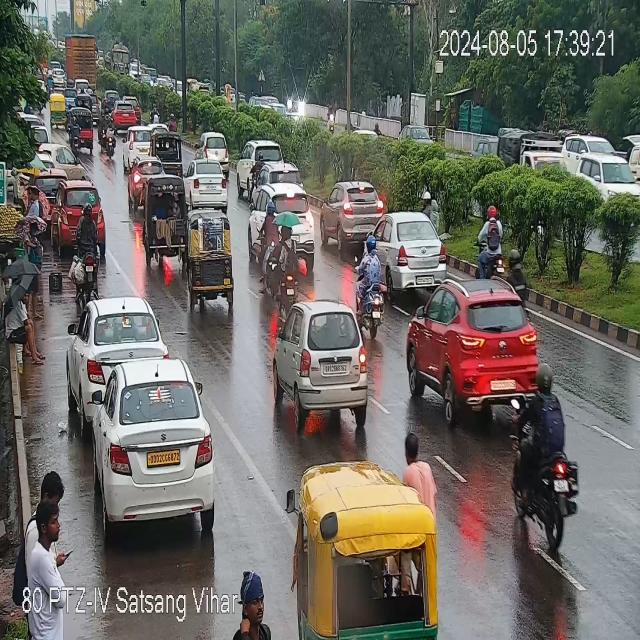2-wheelers: (511, 360, 584, 516), (72, 205, 104, 310), (273, 203, 303, 315), (356, 236, 390, 329), (473, 206, 511, 277), (100, 118, 116, 154), (148, 105, 160, 124)
auto: (288, 451, 436, 640), (186, 210, 237, 312), (142, 173, 183, 266), (153, 134, 185, 171), (70, 112, 94, 150), (51, 93, 70, 128)
car: (92, 358, 218, 528), (400, 274, 546, 418), (269, 302, 371, 431), (71, 296, 161, 401), (358, 212, 451, 290), (249, 183, 319, 275), (321, 179, 385, 247), (51, 181, 102, 243), (562, 126, 617, 182), (240, 140, 290, 193), (186, 162, 229, 212), (252, 166, 308, 203), (196, 132, 233, 183), (33, 143, 83, 179), (127, 126, 156, 154), (112, 101, 138, 128)
pedestrian: (14, 471, 76, 582), (3, 288, 47, 367), (26, 214, 44, 320)
truck: (59, 36, 101, 93)
